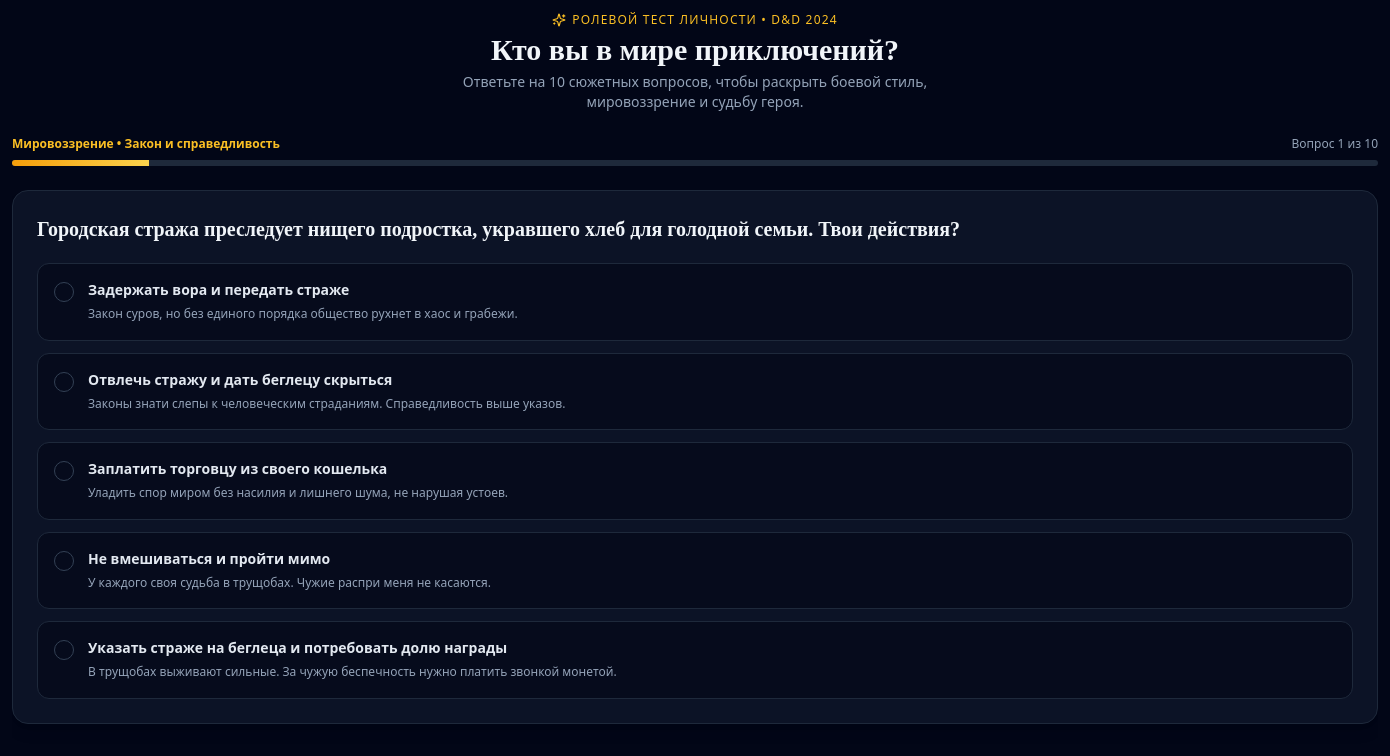
it: PersonalityQuiz Component › navigates through questions and allows going back
Click first option of question 1
Click the text "Задержать вора и передать страже" at [219, 290], box [88,280,349,299]
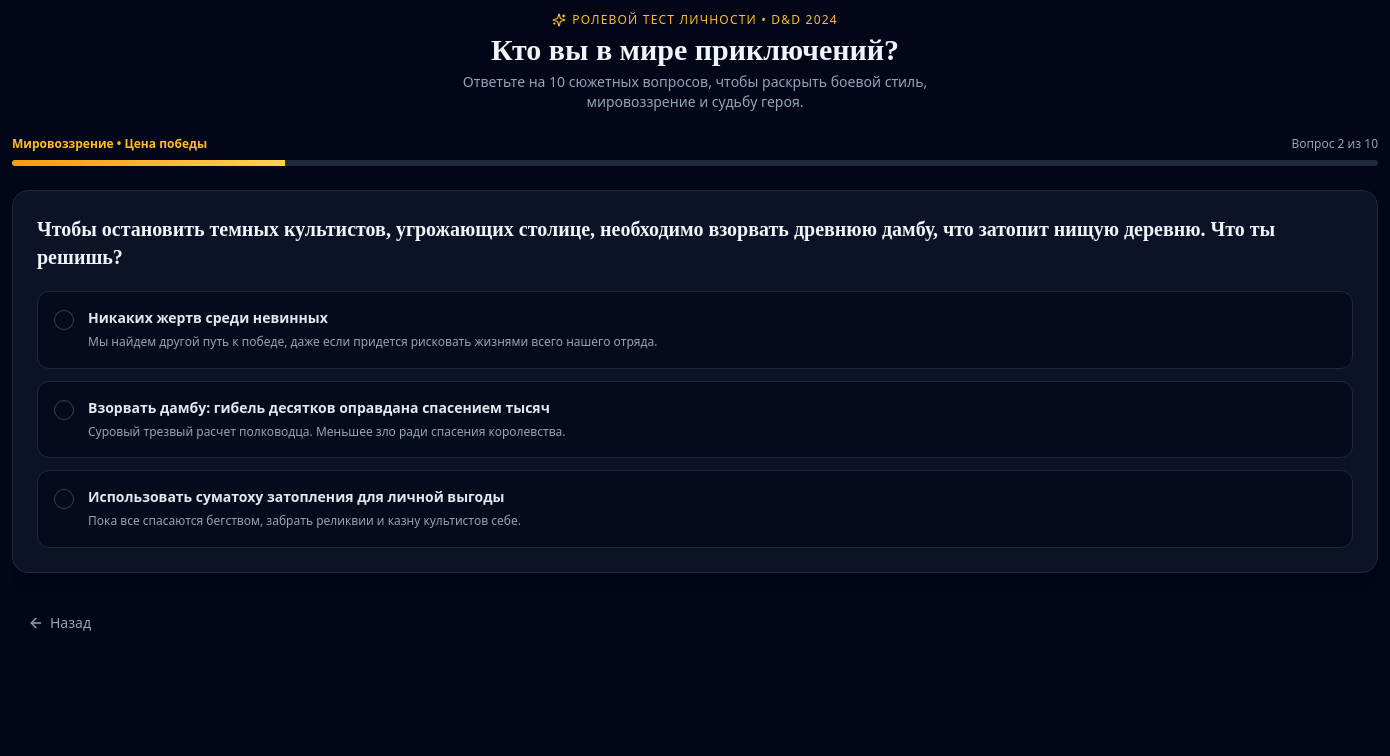
Expected: the text "Вопрос 2 из 10" is shown, [1292,136,1378,152]
Expected: the text "Мировоззрение • Цена победы" is shown, [12,136,207,152]
Click Back
Click the button "Назад" at [60, 622], box [12,604,107,640]
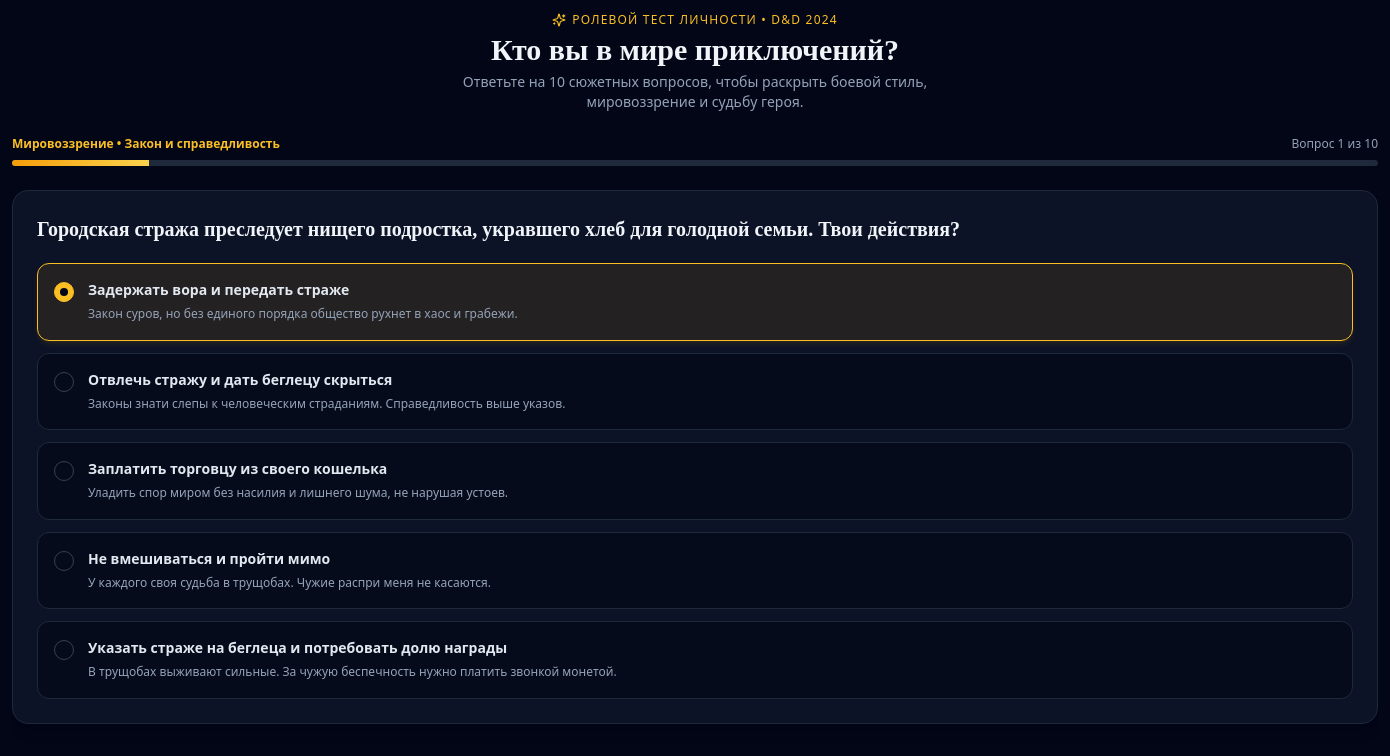
Expected: the text "Вопрос 1 из 10" is shown, [1292,136,1378,152]
Expected: the text "Мировоззрение • Закон и справедливость" is shown, [12,136,280,152]
